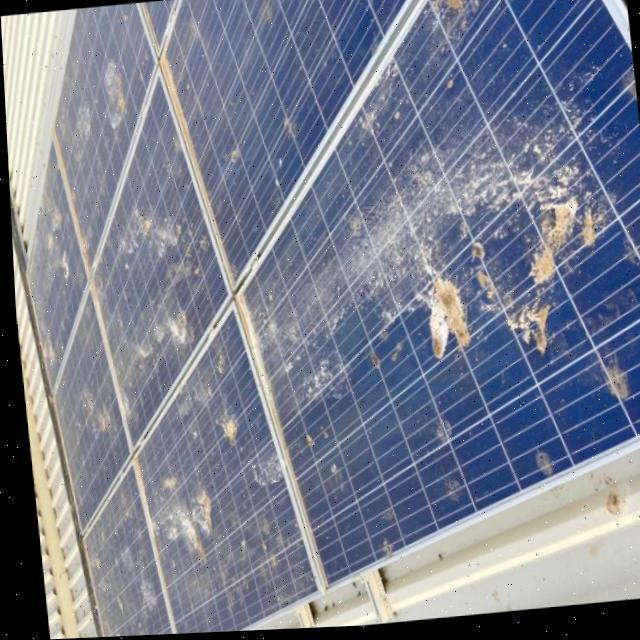Anomaly Solar Panel: (209, 0, 640, 594), (28, 77, 255, 447), (157, 0, 450, 286), (83, 316, 318, 635), (23, 294, 136, 528), (59, 463, 163, 638)
Surface Contaminant: (199, 18, 637, 450), (468, 199, 574, 364), (195, 507, 321, 631), (64, 488, 160, 638), (377, 237, 477, 365), (129, 469, 226, 575), (104, 204, 211, 298), (103, 313, 189, 409), (341, 57, 420, 160), (159, 338, 241, 435), (26, 183, 72, 321), (426, 0, 474, 99), (50, 383, 108, 448), (90, 59, 136, 136), (301, 459, 351, 515), (60, 105, 96, 174), (587, 369, 635, 416), (570, 204, 602, 263), (423, 475, 464, 517), (237, 450, 275, 495), (604, 66, 636, 113), (205, 417, 240, 456), (179, 16, 206, 58), (520, 454, 551, 487), (270, 114, 298, 148), (36, 329, 56, 368), (426, 419, 447, 449), (253, 7, 274, 33), (201, 497, 206, 562)
